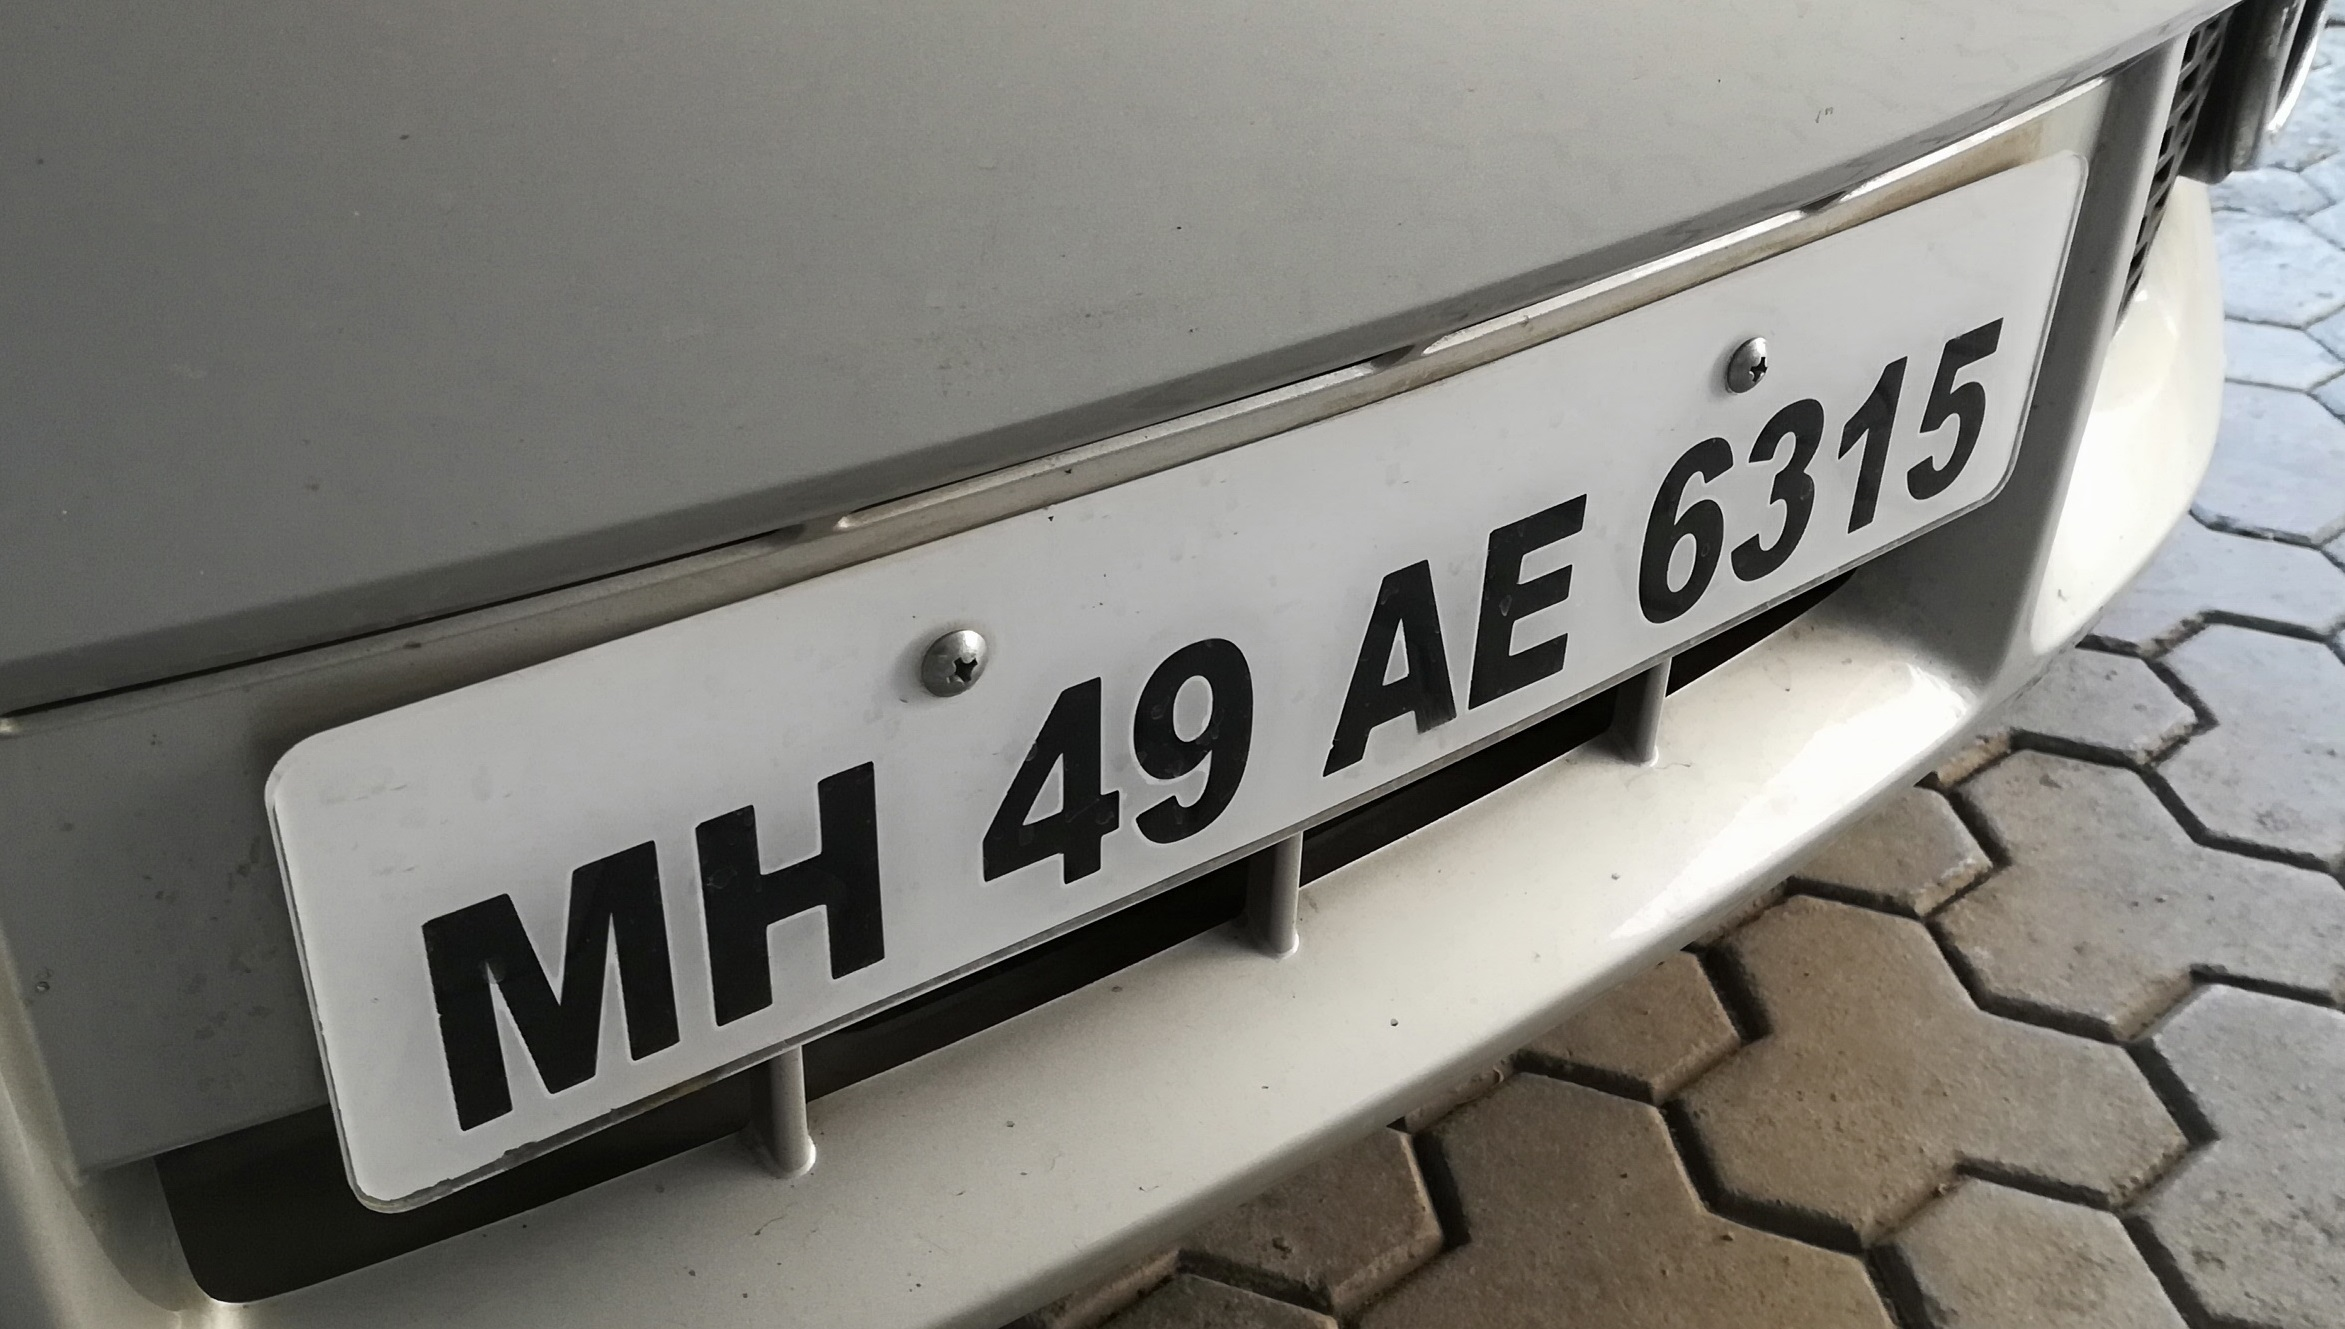numberplate: (256, 134, 2092, 1211)
